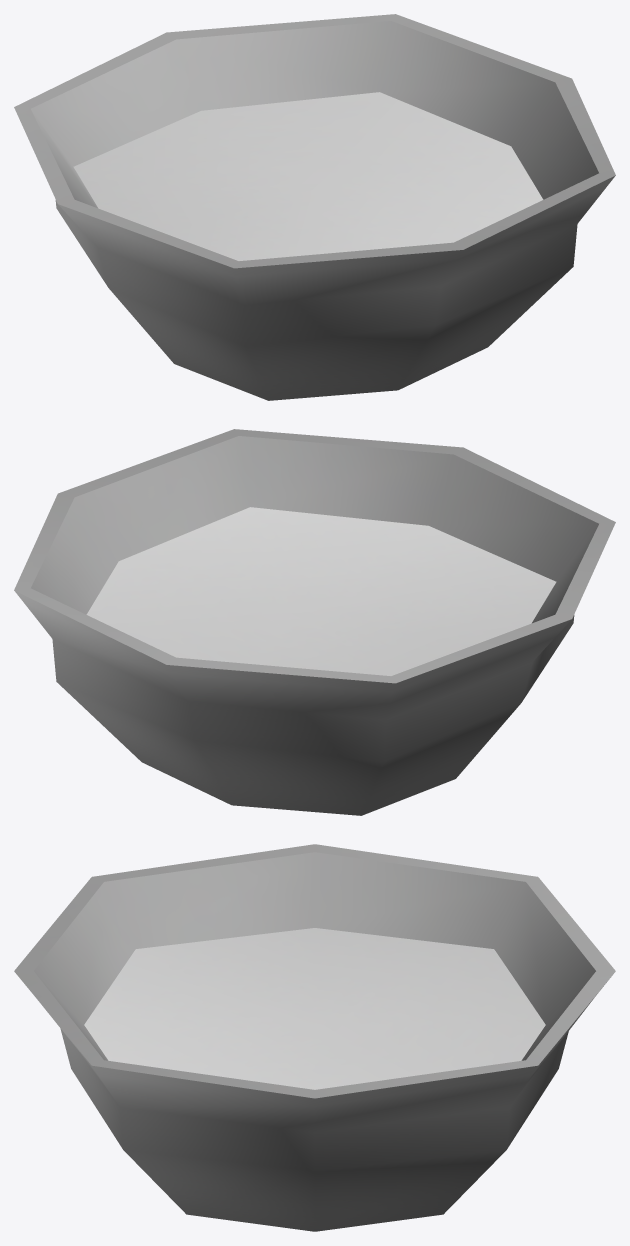
The model's file is milk saucer.fbx.
The picture shows the model from 3 angles, top to bottom: view 1: azimuth 30°, elevation 25°; view 2: azimuth 150°, elevation 25°; view 3: azimuth 270°, elevation 25°; orthographic projection.
Visible parts, largest first — view 1: milk_saucer; view 2: milk_saucer; view 3: milk_saucer.
Boxes of the visible parts, left/top/right/bottom form: milk_saucer: left=14, top=14, right=615, bottom=400; milk_saucer: left=14, top=429, right=615, bottom=815; milk_saucer: left=14, top=844, right=615, bottom=1231.
Size of the model in its own units: 1.07 by 0.381 by 1.07.
